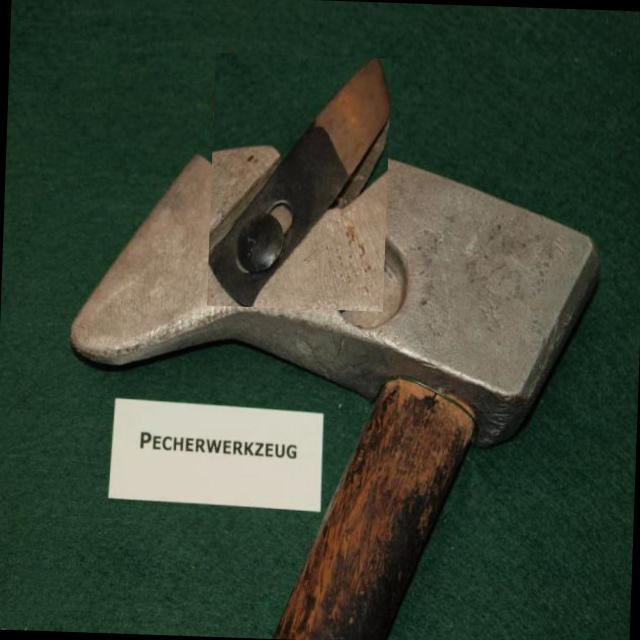Axe: (71, 149, 598, 640)
Knife: (208, 58, 390, 306)
